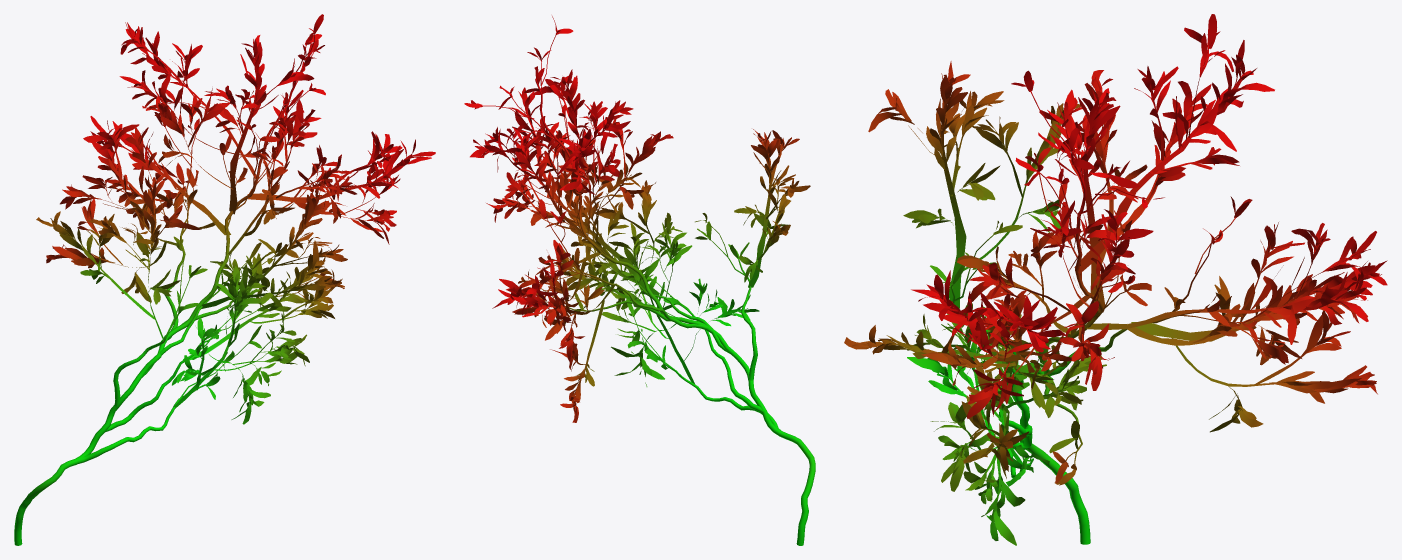
File: Downy Willow_LOD2_Var6_wknlfiuqx.fbx
The picture shows the model from 3 angles, left to right: view 1: azimuth 30°, elevation 25°; view 2: azimuth 150°, elevation 25°; view 3: azimuth 270°, elevation 25°; orthographic projection. The views are drawn at different scales.
Visible parts, largest first — view 1: _2g89_Var6_LOD2; view 2: _2g89_Var6_LOD2; view 3: _2g89_Var6_LOD2.
Boxes of the visible parts, x1,y1,x2,y2 form: _2g89_Var6_LOD2: (14,14,435,545); _2g89_Var6_LOD2: (464,16,815,545); _2g89_Var6_LOD2: (844,14,1387,545).
Size of the model in its own units: 113 by 140 by 103.
